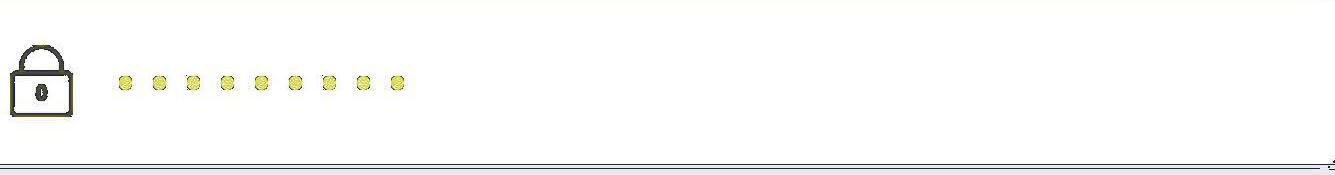EditText: (1, 1, 1334, 174)
